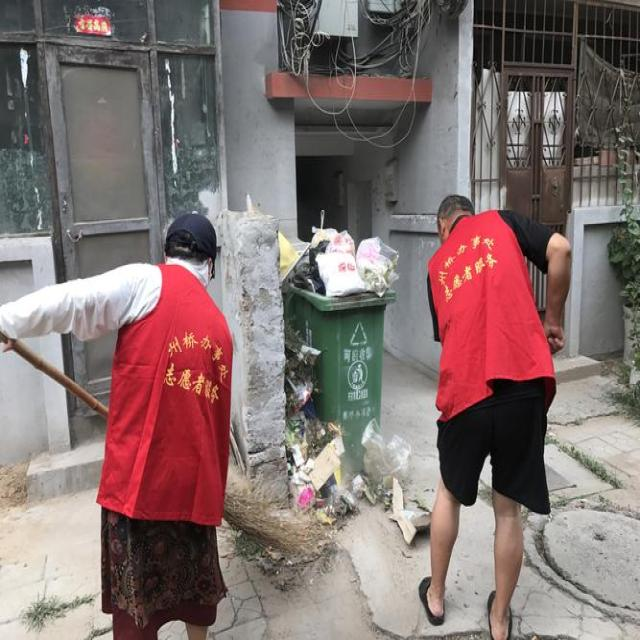garbage: (283, 326, 433, 542)
overflow: (278, 211, 397, 471)
